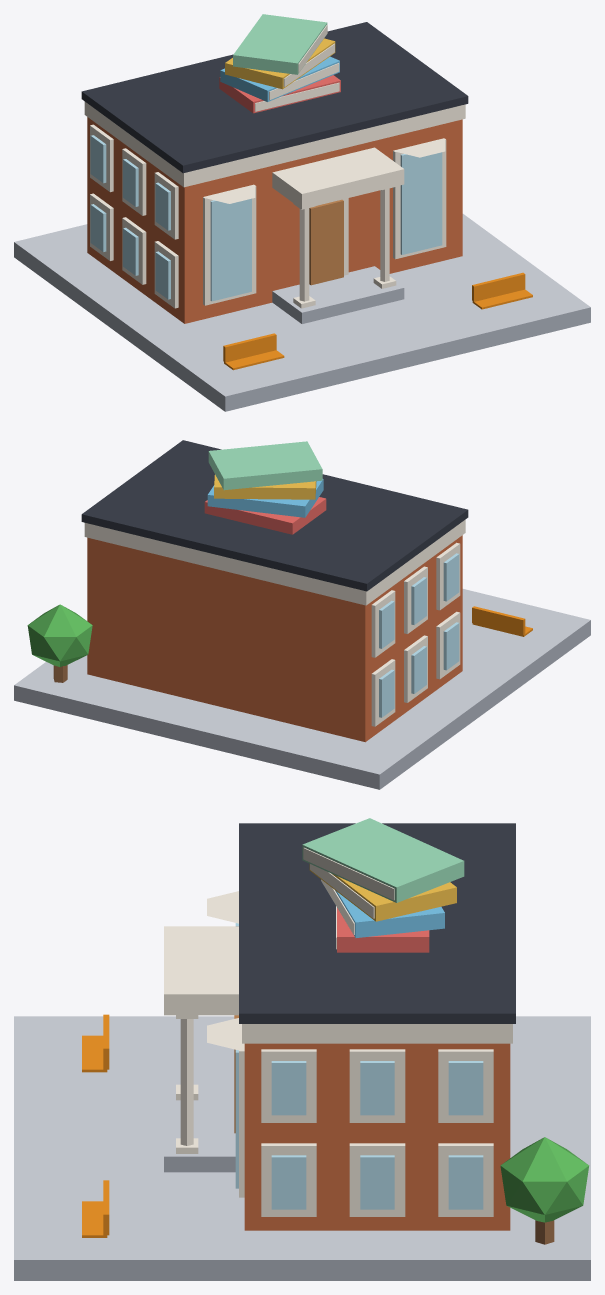
Rendered from public_library.glb.
The picture shows the model from 3 angles, top to bottom: view 1: azimuth 30°, elevation 25°; view 2: azimuth 150°, elevation 25°; view 3: azimuth 270°, elevation 25°; orthographic projection. The views are drawn at different scales.
Visible parts, largest first — view 1: public_library; view 2: public_library; view 3: public_library.
Boxes of the visible parts, x1,y1,x2,y2 form: public_library: (14, 14, 590, 411); public_library: (14, 440, 590, 789); public_library: (14, 818, 590, 1280).
Size of the model in its own units: 1 by 0.595 by 1.
